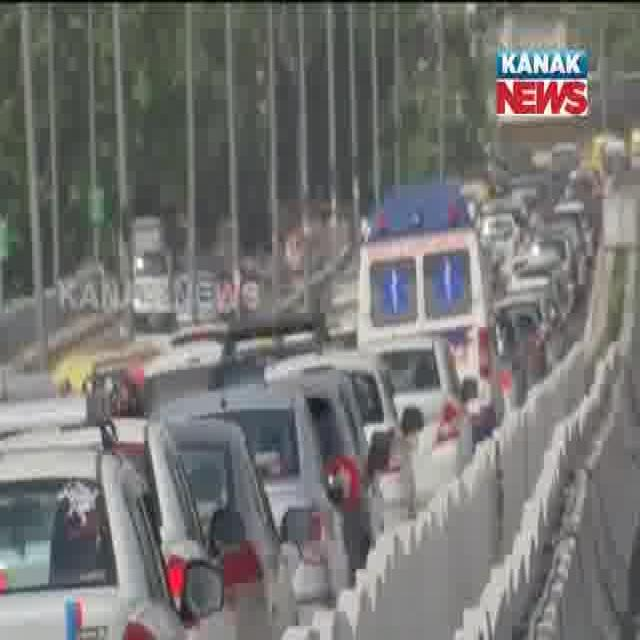ambulance: (347, 168, 494, 348)
